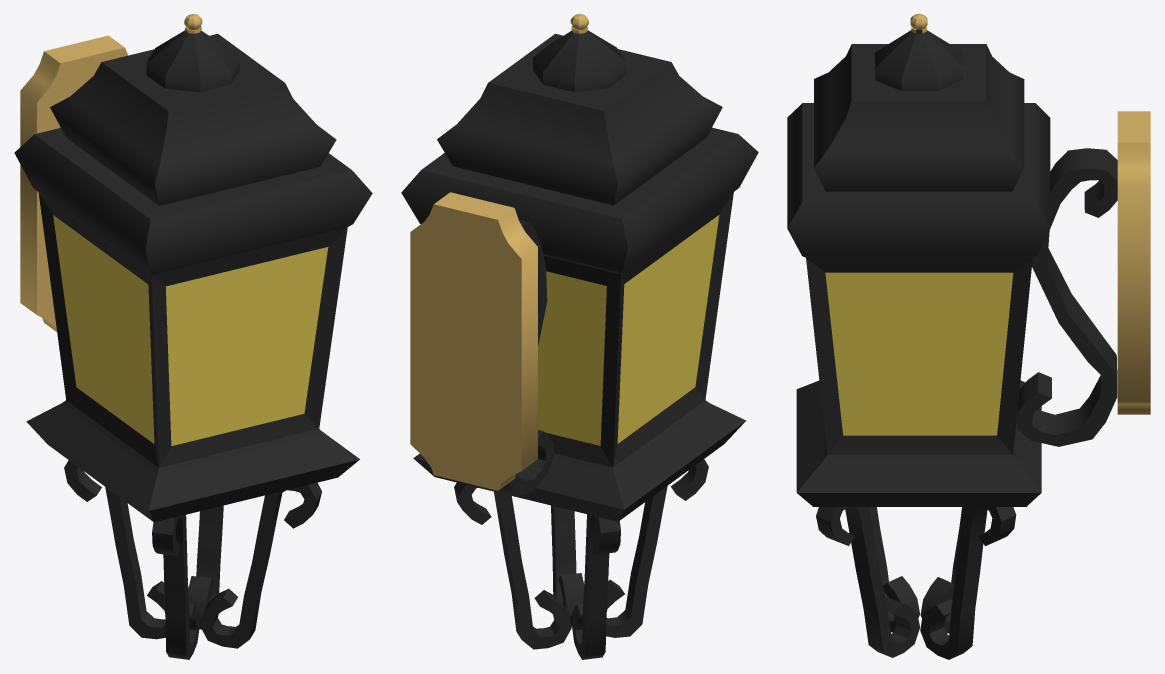
File: MiscLanternUV.fbx
3 views of the same model, side by side, from view 1: azimuth 30°, elevation 25°; view 2: azimuth 150°, elevation 25°; view 3: azimuth 270°, elevation 25° (orthographic).
Visible parts, largest first — view 1: polySurface49; view 2: polySurface49; view 3: polySurface49.
Part boxes in pixels (left/top/right/bottom): polySurface49: left=14, top=14, right=372, bottom=659; polySurface49: left=401, top=14, right=758, bottom=659; polySurface49: left=787, top=14, right=1150, bottom=659.
Bounding box in the file's own units: 31.46 × 82.83 × 43.49.
